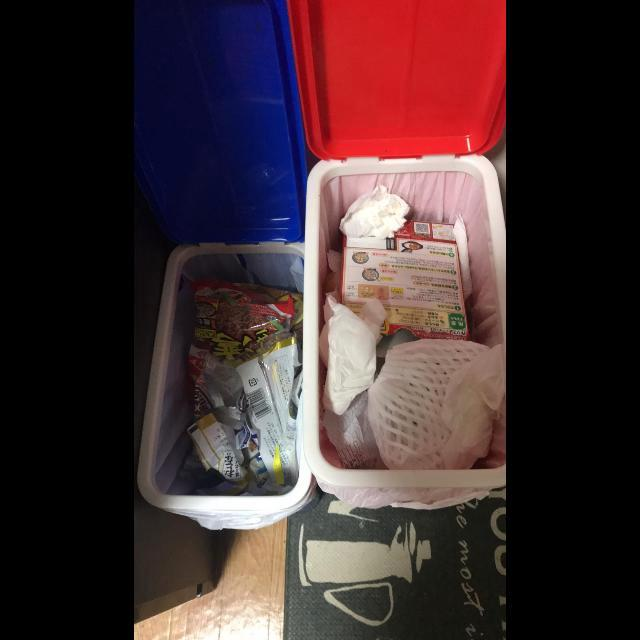cardboard: (342, 221, 470, 340)
food_wrapper: (189, 280, 303, 379), (236, 344, 300, 486), (187, 413, 248, 483), (207, 376, 246, 430)
paper: (442, 345, 505, 470), (323, 295, 377, 416), (339, 185, 410, 249)
